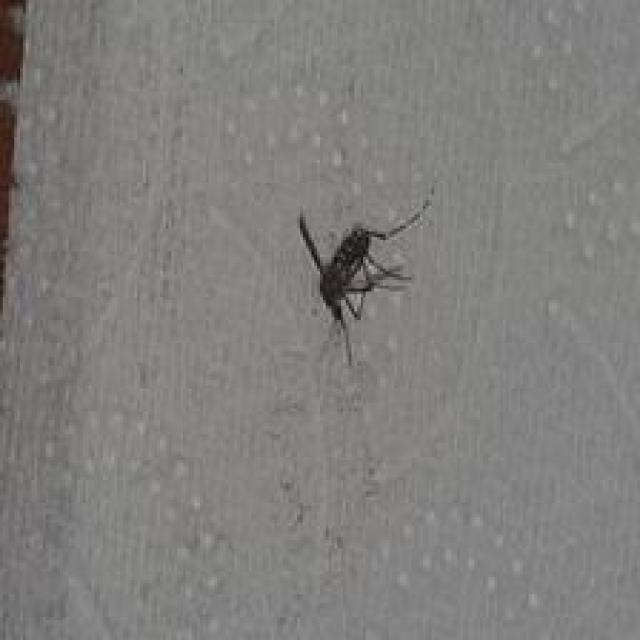Aedes albopictus: (294, 187, 434, 367)
